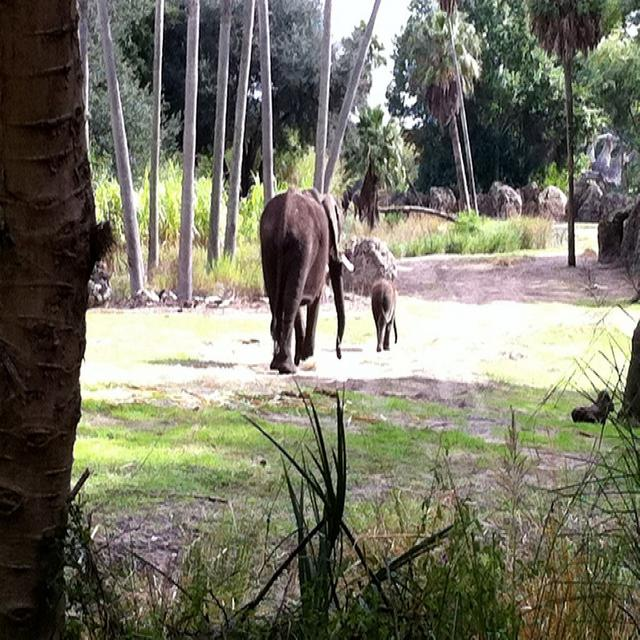Elephant: (258, 186, 355, 374), (371, 277, 397, 352)
